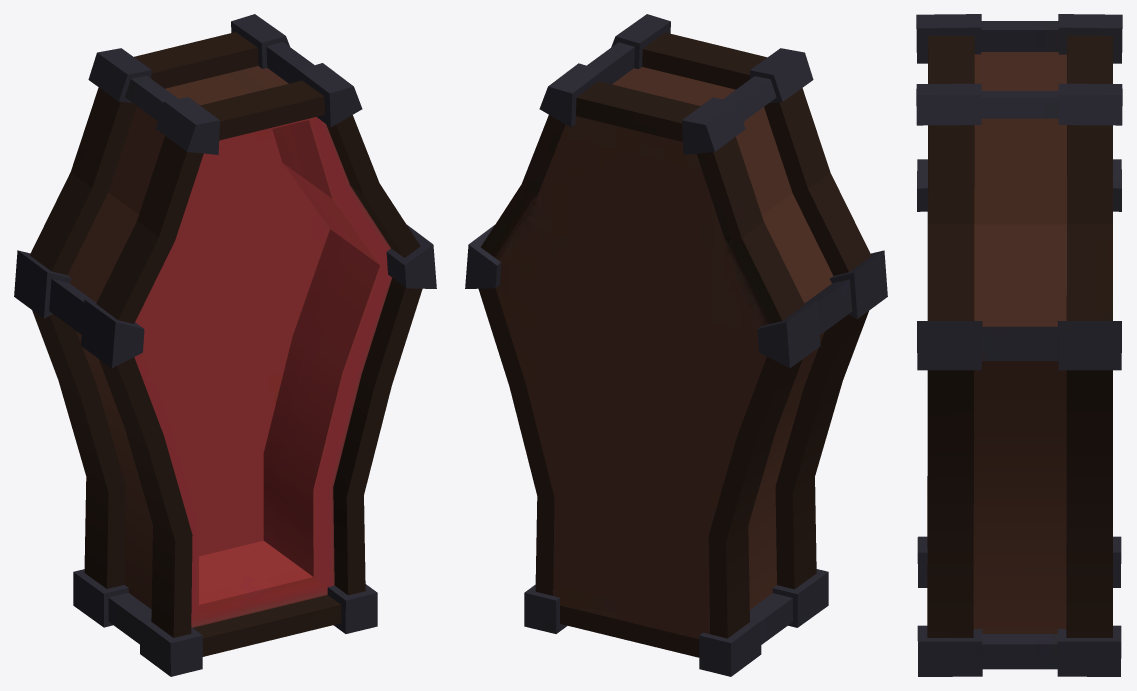
The model's file is coffin_open.glb.
3 views of the same model, side by side, from view 1: azimuth 30°, elevation 25°; view 2: azimuth 150°, elevation 25°; view 3: azimuth 270°, elevation 25° (orthographic). The views are drawn at different scales.
Visible parts, largest first — view 1: coffin_open; view 2: coffin_open; view 3: coffin_open.
Boxes of the visible parts, x1=… form: coffin_open: x1=14, y1=14, x2=436, y2=676; coffin_open: x1=465, y1=14, x2=887, y2=676; coffin_open: x1=916, y1=14, x2=1122, y2=676.
Bounding box in the file's own units: 1.47 × 2.36 × 0.7735.
Materials: 1 (1 with a texture image).
